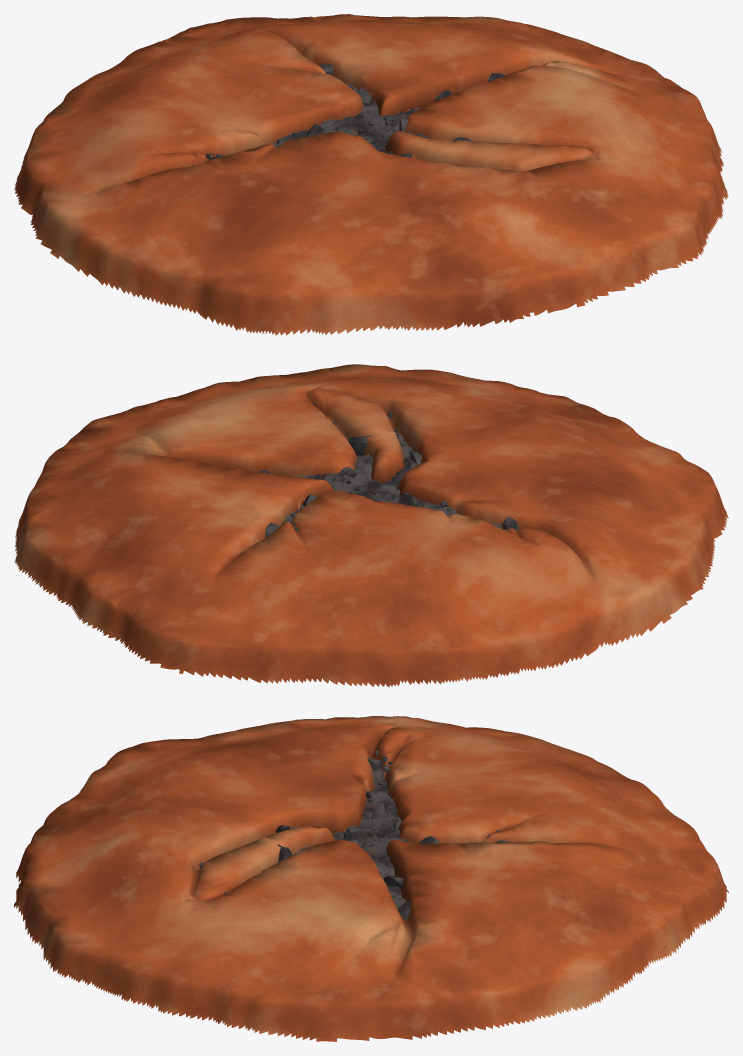
File: Deposit_Iron.fbx
3 views of the same model, one above another, from view 1: azimuth 30°, elevation 25°; view 2: azimuth 150°, elevation 25°; view 3: azimuth 270°, elevation 25° (orthographic).
Parts seen in each view (by area): view 1: Body, Ore; view 2: Body, Ore; view 3: Body, Ore.
Boxes of the visible parts, bbox=[...] form: Body: bbox=[14, 14, 728, 335]; Ore: bbox=[191, 63, 505, 166]; Body: bbox=[14, 364, 728, 687]; Ore: bbox=[258, 402, 518, 537]; Body: bbox=[14, 716, 728, 1041]; Ore: bbox=[199, 750, 509, 920].
Size of the model in its own units: 6.22 by 0.6363 by 6.24.
Materials: 2 (2 with a texture image).
